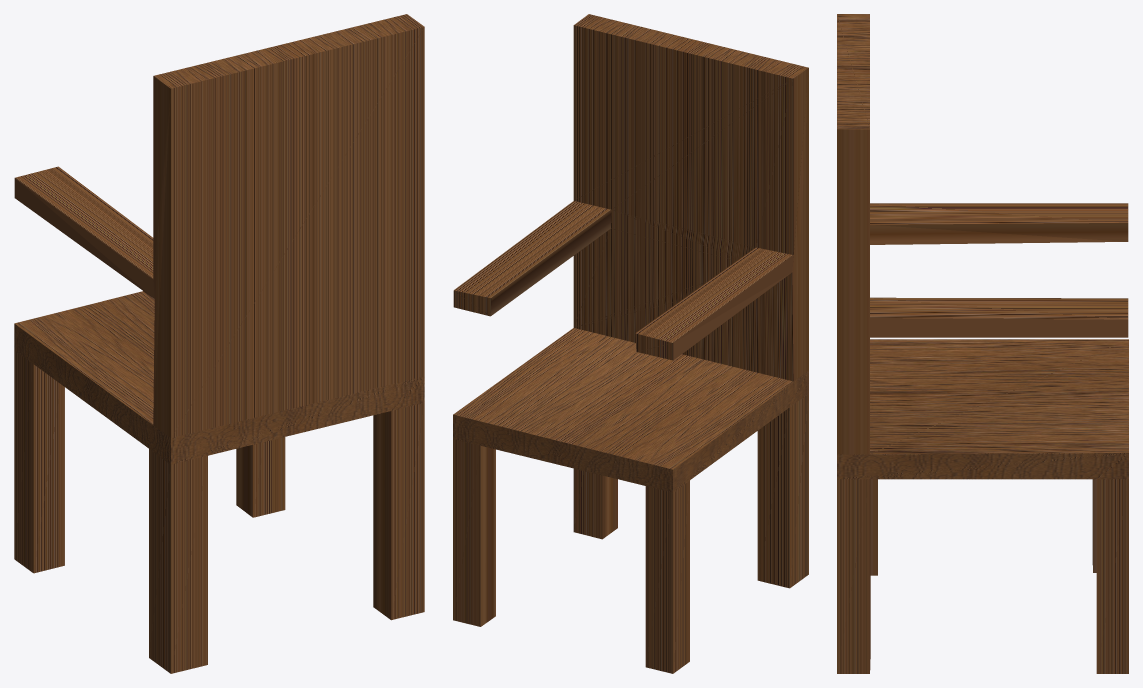
The model's file is Chair.FBX.
3 renders of one model, left to right at view 1: azimuth 30°, elevation 25°; view 2: azimuth 150°, elevation 25°; view 3: azimuth 270°, elevation 25°, orthographic. The views are drawn at different scales.
Visible parts, largest first — view 1: Object001; view 2: Object001; view 3: Object001.
Boxes of the visible parts, x1,y1,x2,y2 form: Object001: (14, 14, 424, 673); Object001: (453, 14, 808, 673); Object001: (837, 14, 1128, 673).
Size of the model in its own units: 20 by 44.05 by 21.39.
1 material, 1 textured.
